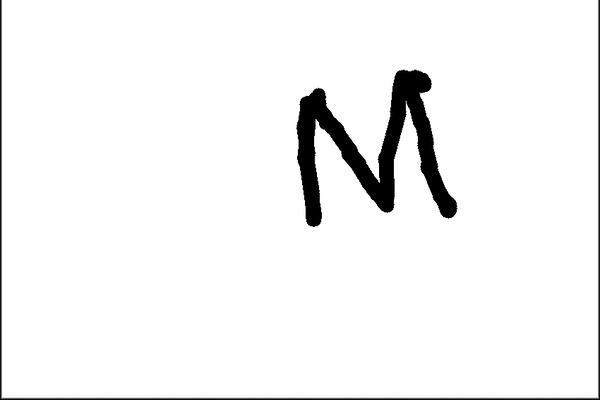M: (295, 65, 461, 222)
